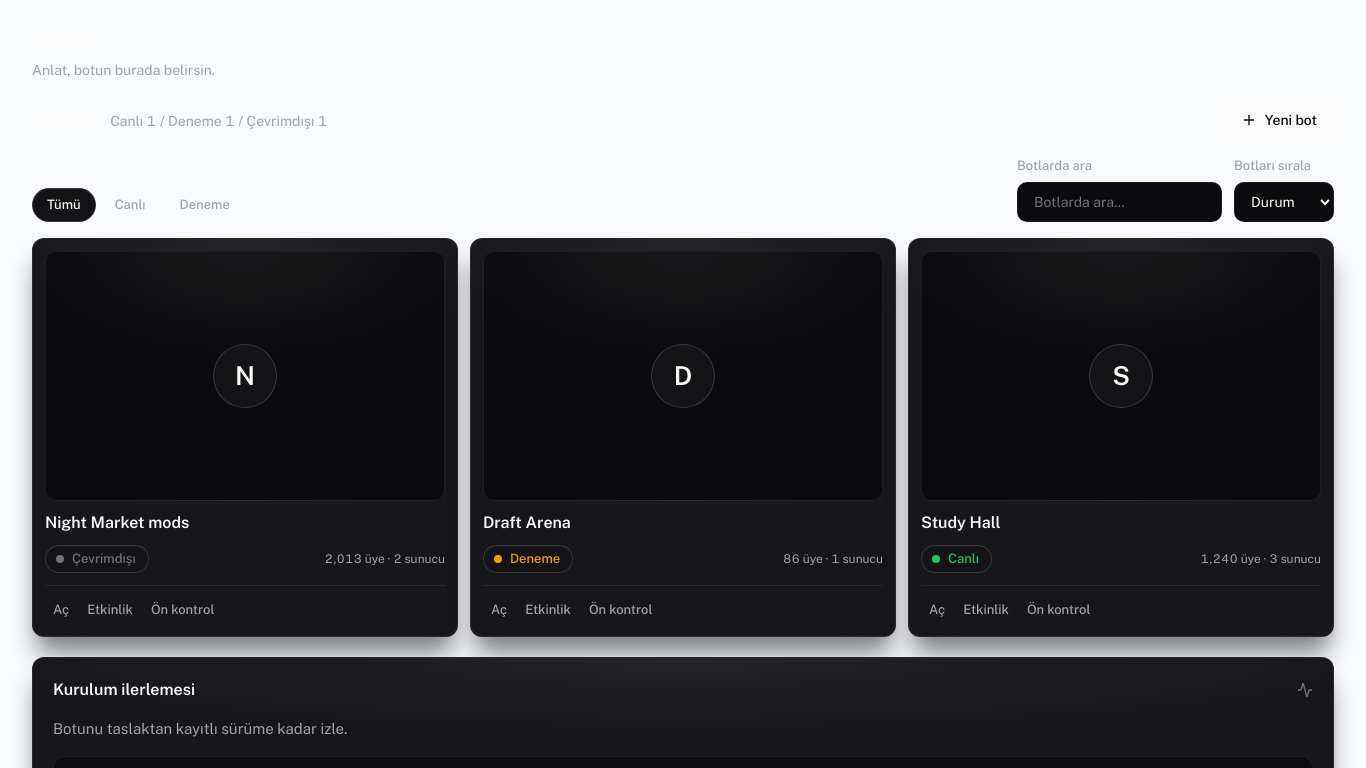
Test: dashboard filtering and sorting on the bots page › toolbar search filters the bot cards client-side
Type "draft" into the search field labelled "Botlarda ara". click: (1120, 202)
box: [1017,182,1222,222]
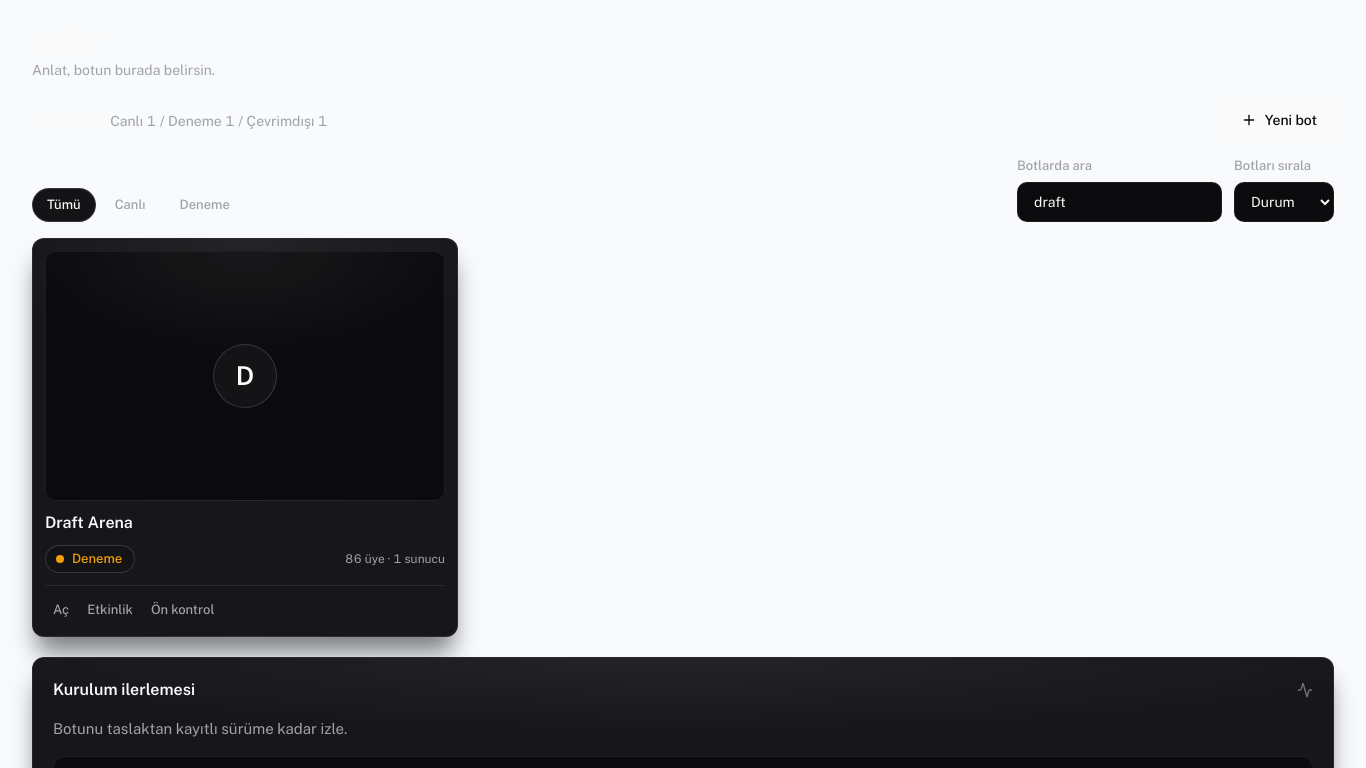
Expected: the link "D Draft Arena Deneme 86 üye · 1 sunucu" is shown, [45,251,445,573]
Expected: the link "Study Hall" is gone
Expected: the link "Night Market mods" is gone
